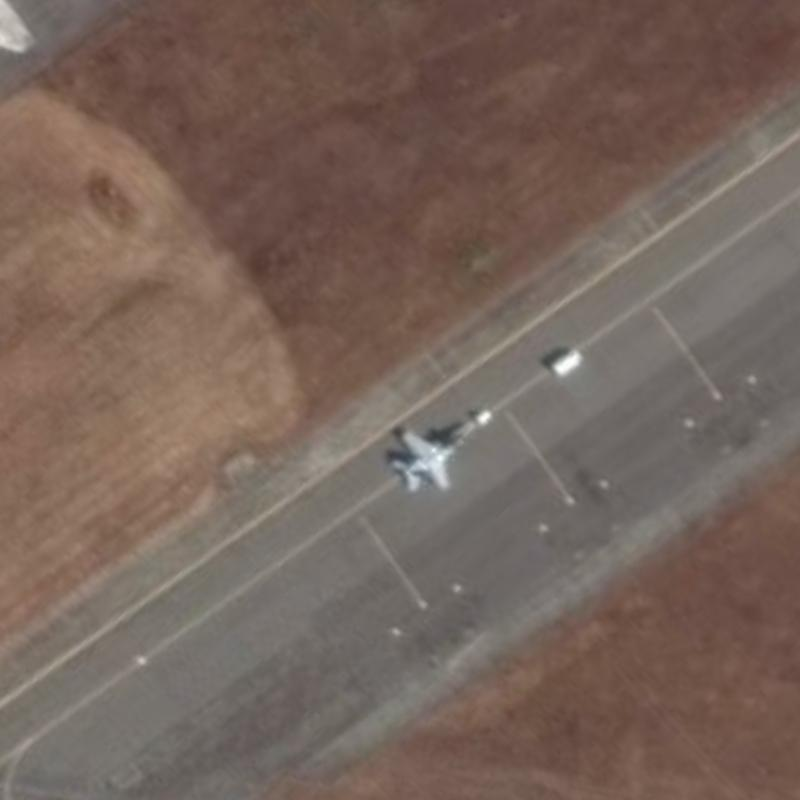A16: (378, 404, 483, 503)
